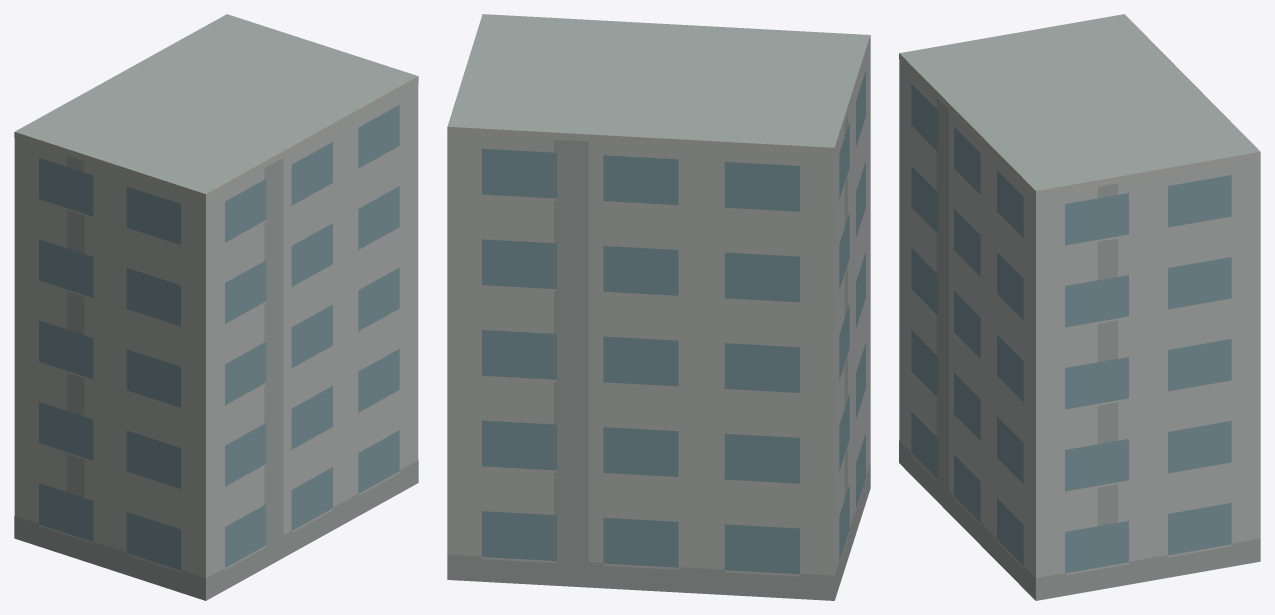
Rendered from survey-upis-32700138.glb.
3 views of the same model, side by side, from view 1: azimuth 30°, elevation 25°; view 2: azimuth 150°, elevation 25°; view 3: azimuth 270°, elevation 25° (orthographic). The views are drawn at different scales.
Parts seen in each view (by area): view 1: survey-upis-32700138.tmp; view 2: survey-upis-32700138.tmp; view 3: survey-upis-32700138.tmp.
Part boxes in pixels (box(x1,y1,x2,y2)): survey-upis-32700138.tmp: box(14, 14, 418, 600); survey-upis-32700138.tmp: box(447, 14, 870, 600); survey-upis-32700138.tmp: box(899, 14, 1260, 600).
Bounding box in the file's own units: 14.18 × 15.3 × 12.24.
